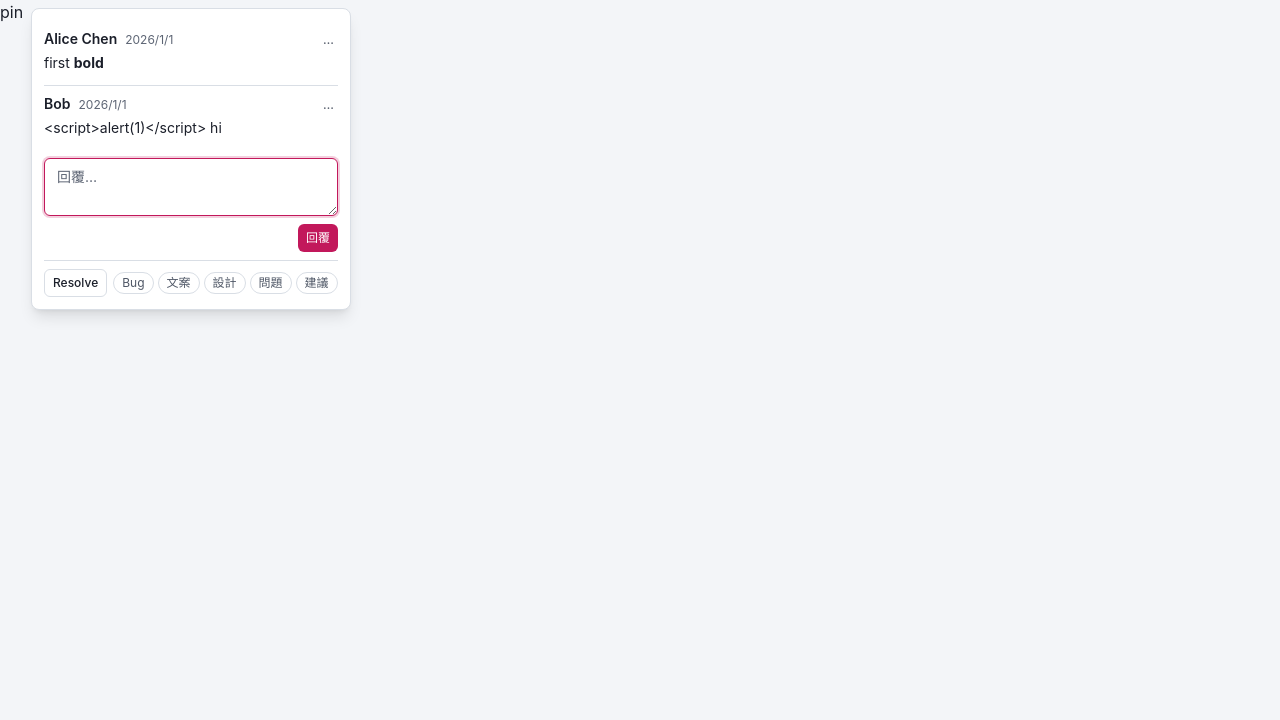
Scenario: ThreadPopover › the … menu offers 編輯／刪除／複製連結 only where permitted
Click the button named "留言選項".
click(329, 40)  # box left=319, top=32, right=338, bottom=48
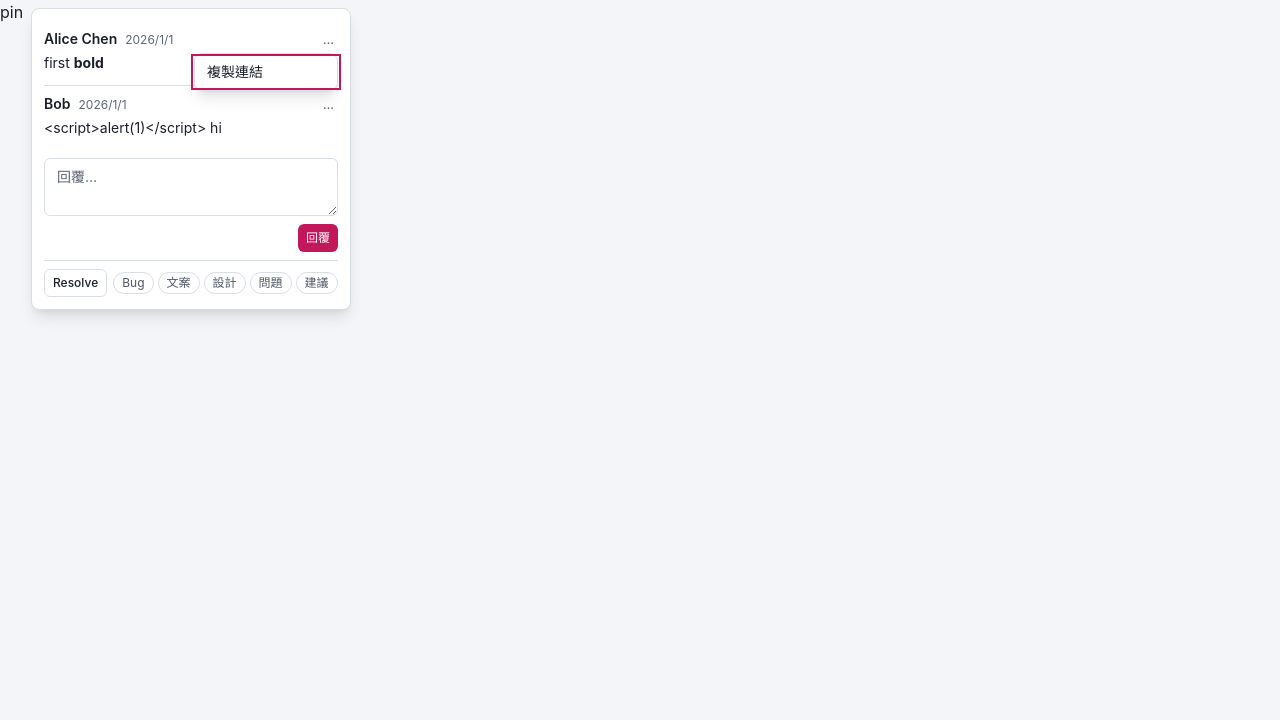
Expected: the menu item "編輯" is not shown
Expected: the menu item "刪除" is not shown
Click the menu item "複製連結".
click(266, 72)  # box left=195, top=58, right=337, bottom=86
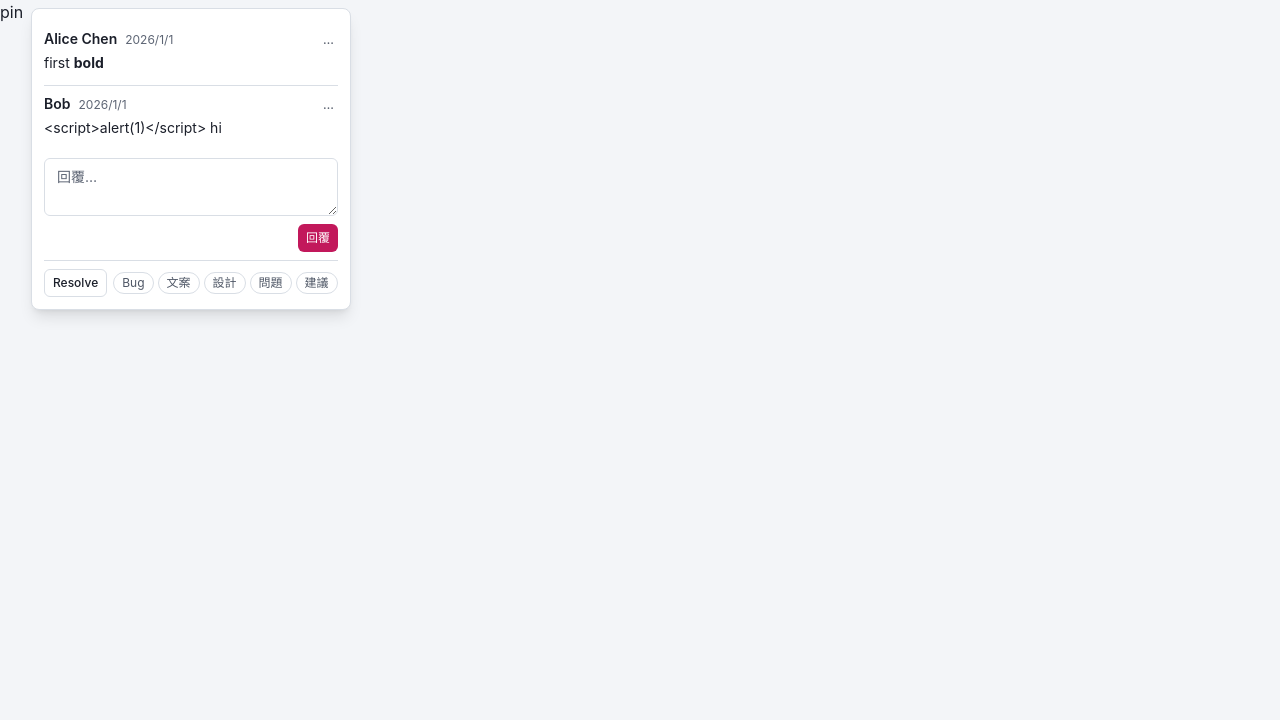
Click the button named "留言選項".
click(329, 105)  # box left=319, top=97, right=338, bottom=113
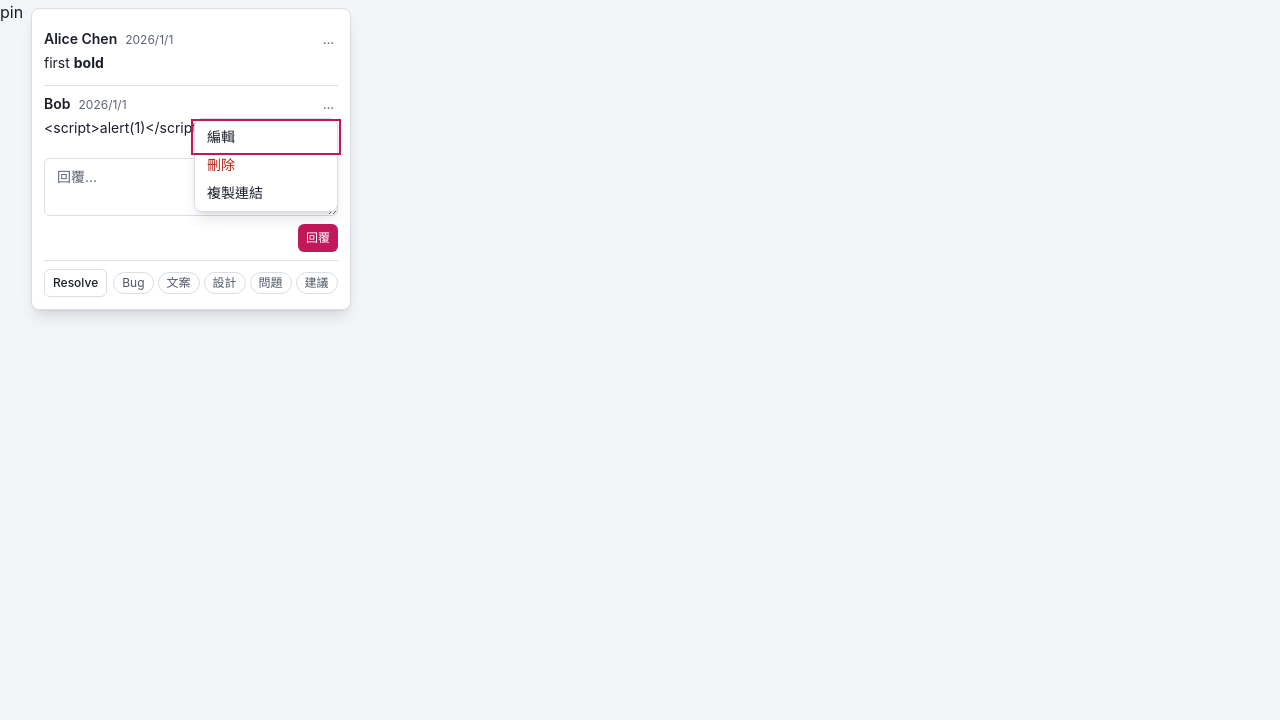
Now the menu item "編輯" is shown, box left=195, top=123, right=337, bottom=151
Now the menu item "刪除" is shown, box left=195, top=151, right=337, bottom=179
